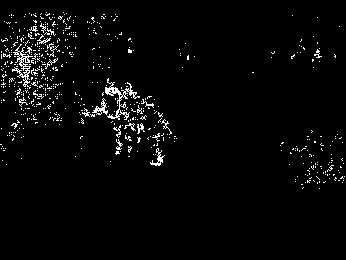person: (139, 92, 177, 169), (98, 76, 123, 158), (120, 82, 144, 156)
